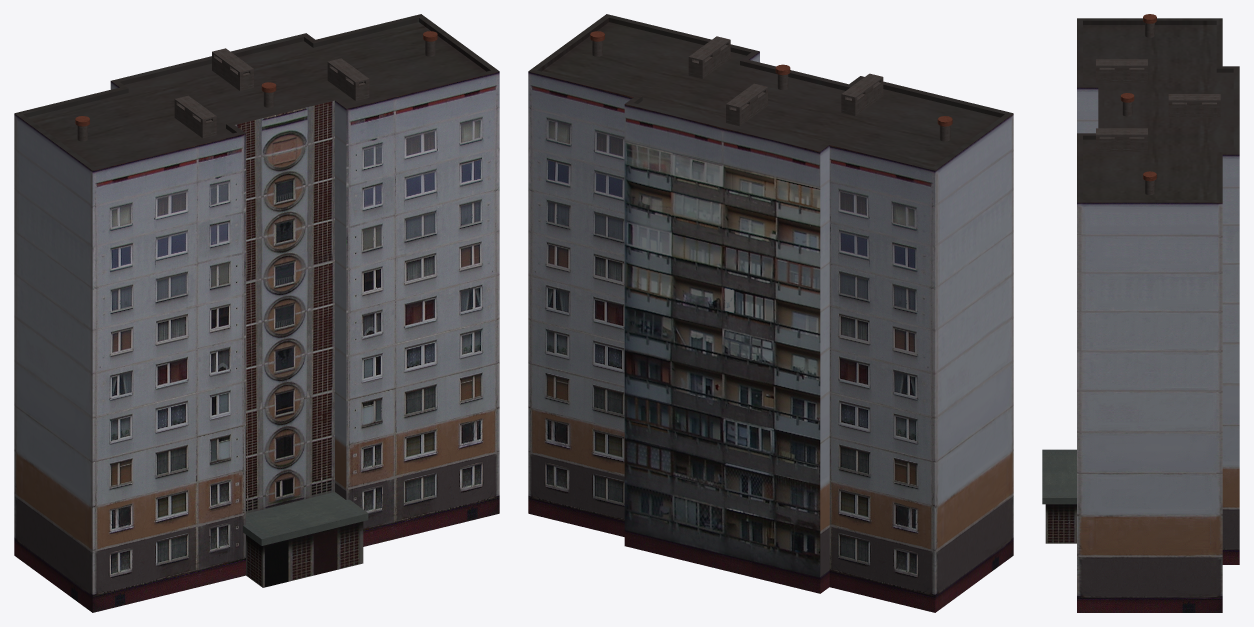
The model's file is soviet-house.glb.
The picture shows the model from 3 angles, left to right: view 1: azimuth 30°, elevation 25°; view 2: azimuth 150°, elevation 25°; view 3: azimuth 270°, elevation 25°; orthographic projection. The views are drawn at different scales.
Parts seen in each view (by area): view 1: soviet-house; view 2: soviet-house; view 3: soviet-house.
Boxes of the visible parts, box(x1,y1,x2,y2) form: soviet-house: box(14, 14, 499, 612); soviet-house: box(528, 14, 1013, 612); soviet-house: box(1042, 14, 1239, 612).
Bounding box in the file's own units: 293 × 315 × 133.
1 material, 1 textured.
